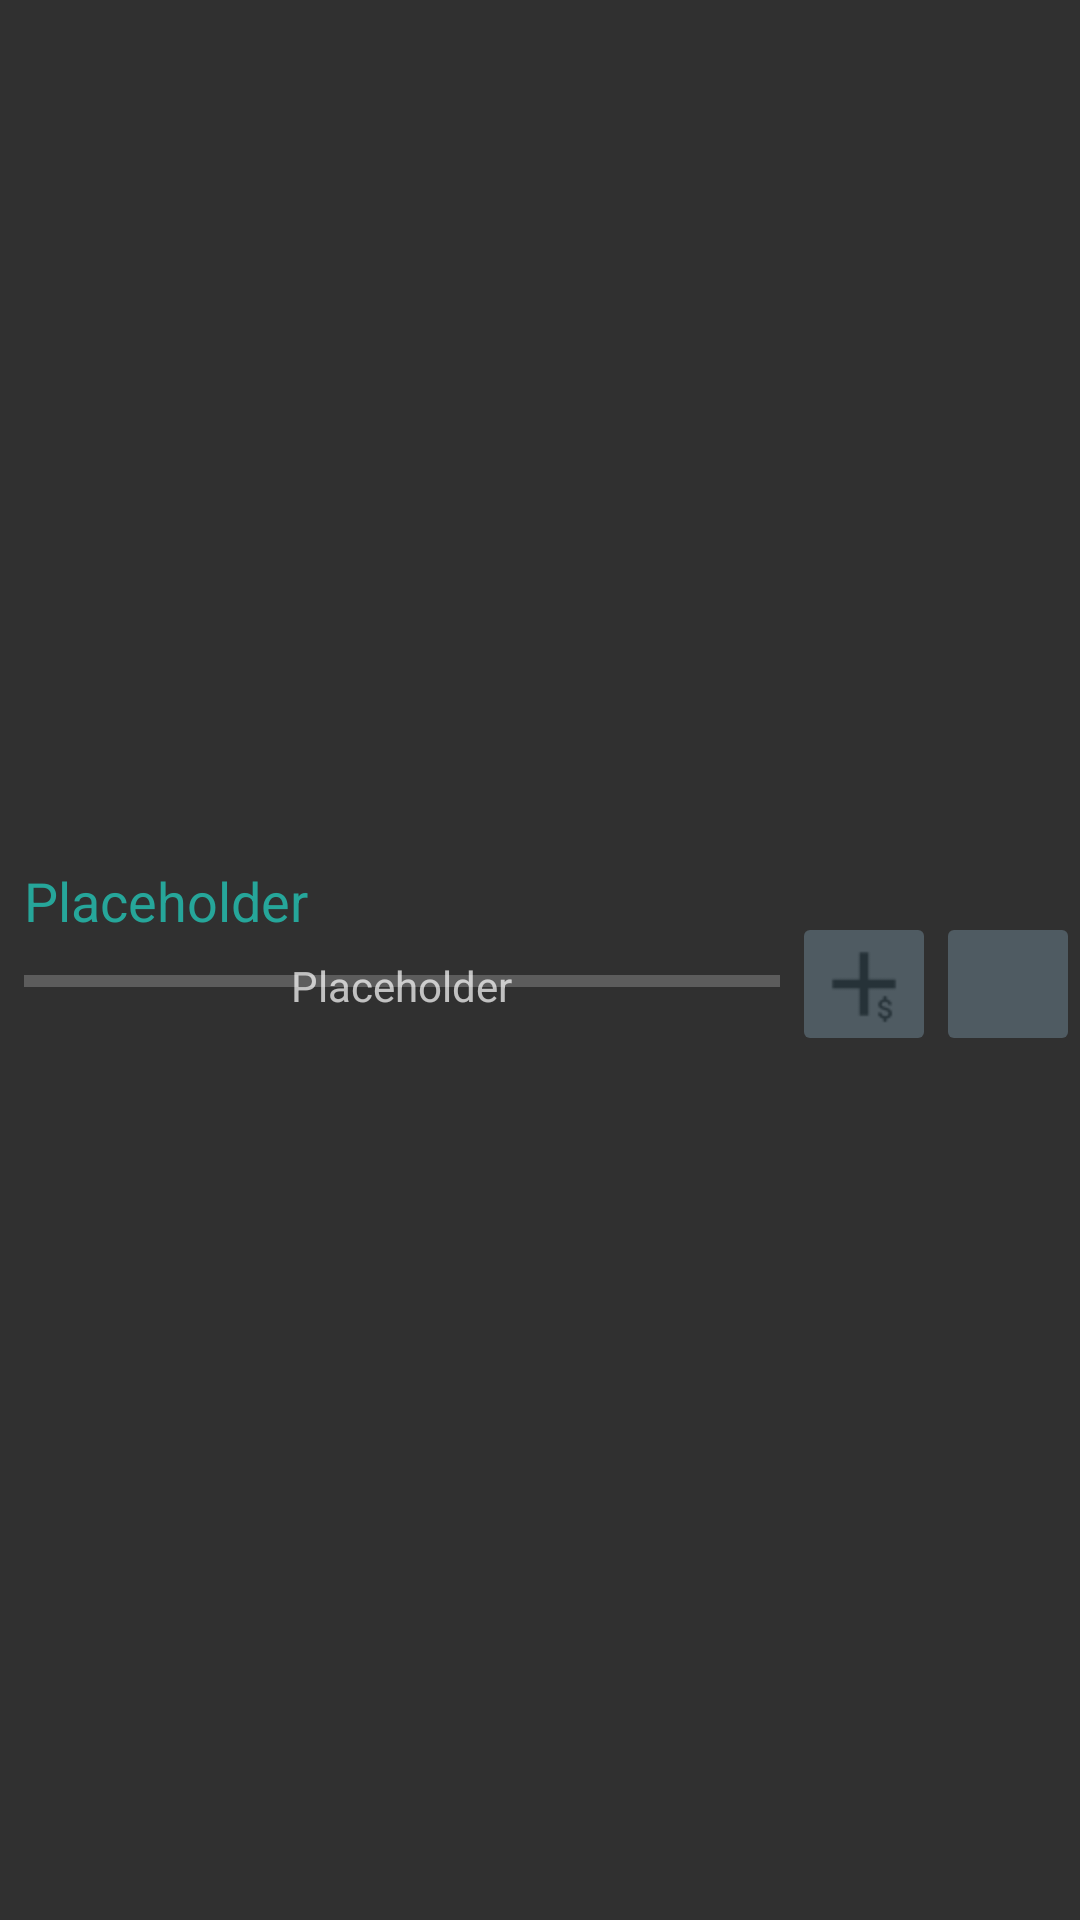

Icons on this 1080 × 1920 Android screen, each with its box as (left=x1, top=y1, right=x2, bottom=y2):
add: (left=804, top=930, right=924, bottom=1038)
